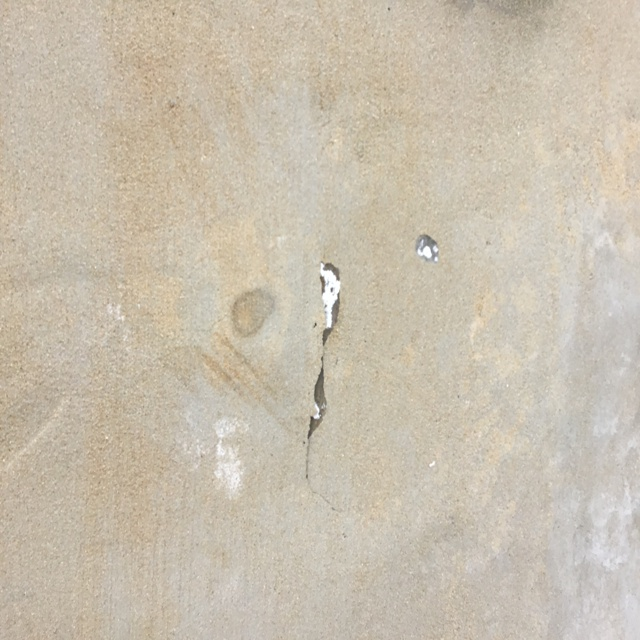spall: (293, 247, 348, 519), (226, 286, 276, 338), (412, 232, 442, 267)
